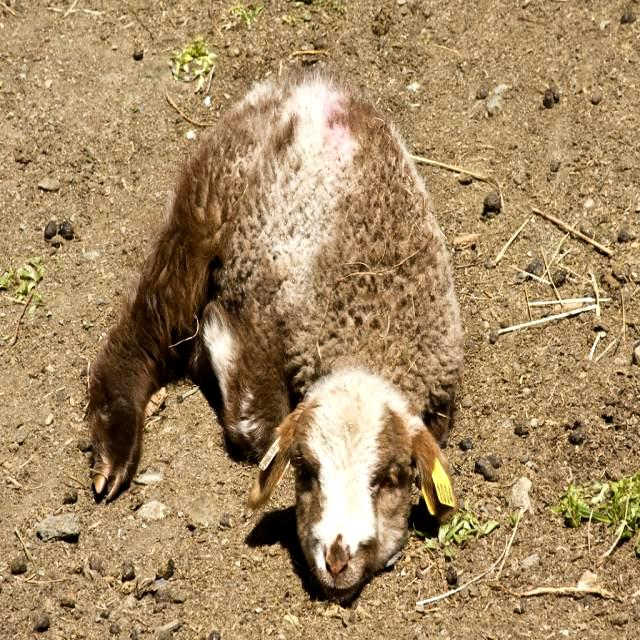sheep: (92, 71, 463, 592)
